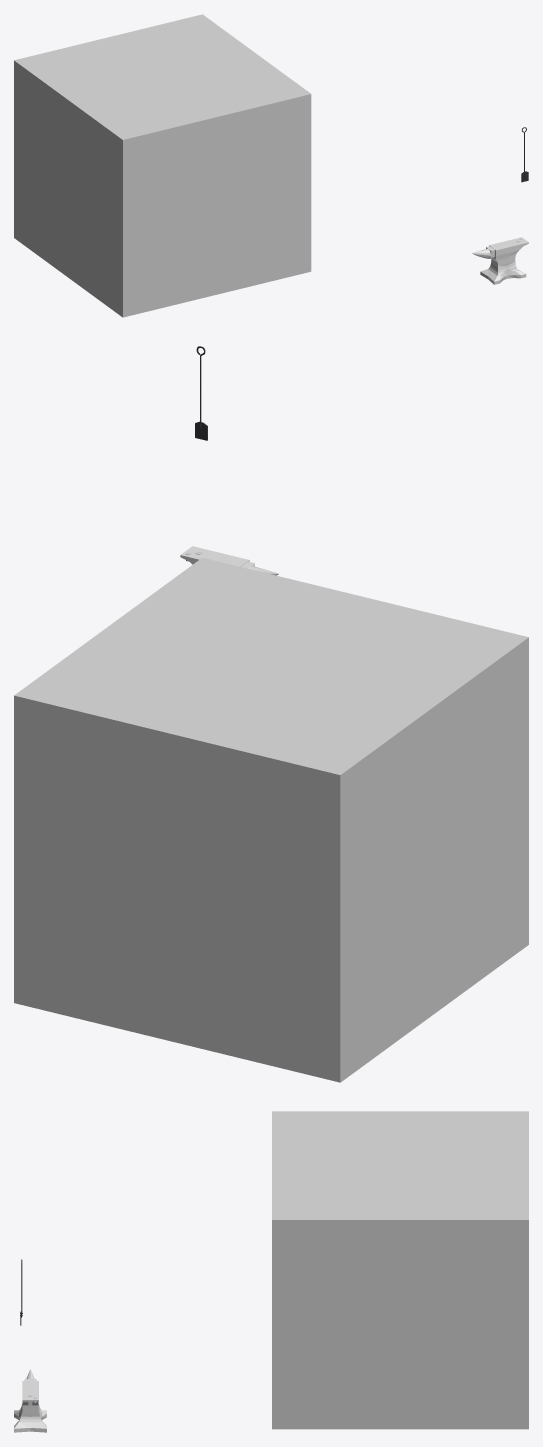
Rendered from smithsshovel.dae.
The picture shows the model from 3 angles, top to bottom: view 1: azimuth 30°, elevation 25°; view 2: azimuth 150°, elevation 25°; view 3: azimuth 270°, elevation 25°; orthographic projection. The views are drawn at different scales.
Parts seen in each view (by area): view 1: Cube_004, Cube_002; view 2: Cube_004, Cube_002; view 3: Cube_004, Cube_002.
Part boxes in pixels (x1,y1,x2,y2): Cube_004: (14, 14, 311, 317); Cube_002: (472, 237, 528, 284); Cube_004: (14, 557, 528, 1082); Cube_002: (180, 546, 278, 575); Cube_004: (272, 1111, 528, 1429); Cube_002: (14, 1369, 46, 1432).
Size of the model in its own units: 3.18 by 4.01 by 1.99.
1 material, 1 textured.
